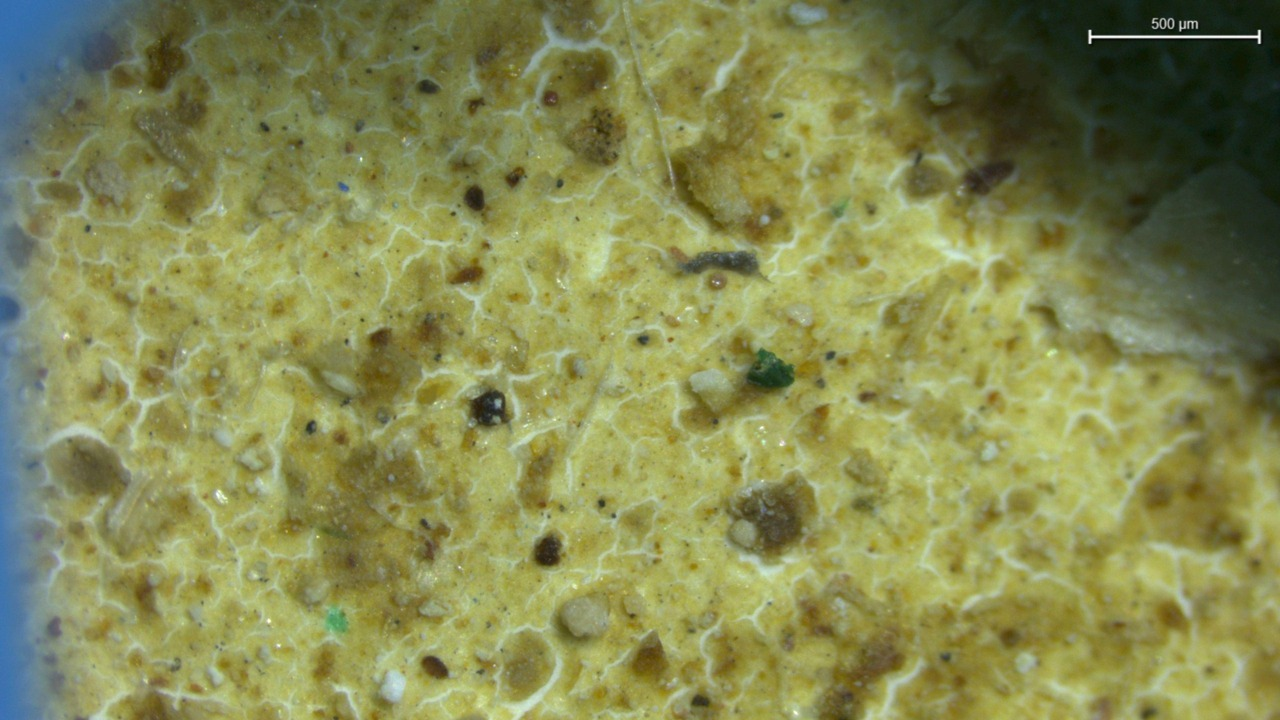microplastic_fragment: (558, 592, 609, 638), (688, 369, 737, 414), (377, 670, 406, 703), (787, 3, 828, 25)
